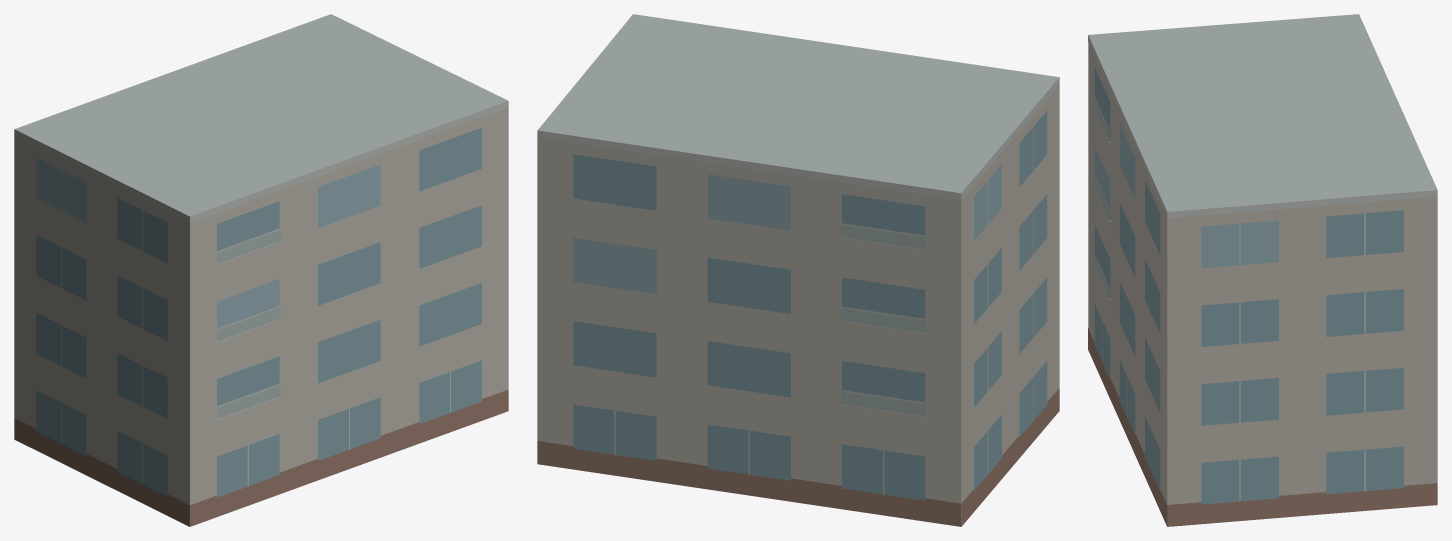
Rendered from survey-upis-32944899.glb.
The picture shows the model from 3 angles, left to right: view 1: azimuth 30°, elevation 25°; view 2: azimuth 150°, elevation 25°; view 3: azimuth 270°, elevation 25°; orthographic projection. The views are drawn at different scales.
Visible parts, largest first — view 1: survey-upis-32944899.tmp; view 2: survey-upis-32944899.tmp; view 3: survey-upis-32944899.tmp.
Part boxes in pixels (x1=…): survey-upis-32944899.tmp: x1=14, y1=14, x2=508, y2=526; survey-upis-32944899.tmp: x1=537, y1=14, x2=1059, y2=526; survey-upis-32944899.tmp: x1=1088, y1=14, x2=1437, y2=526.
Size of the model in its own units: 15.92 by 11.8 by 11.88.
